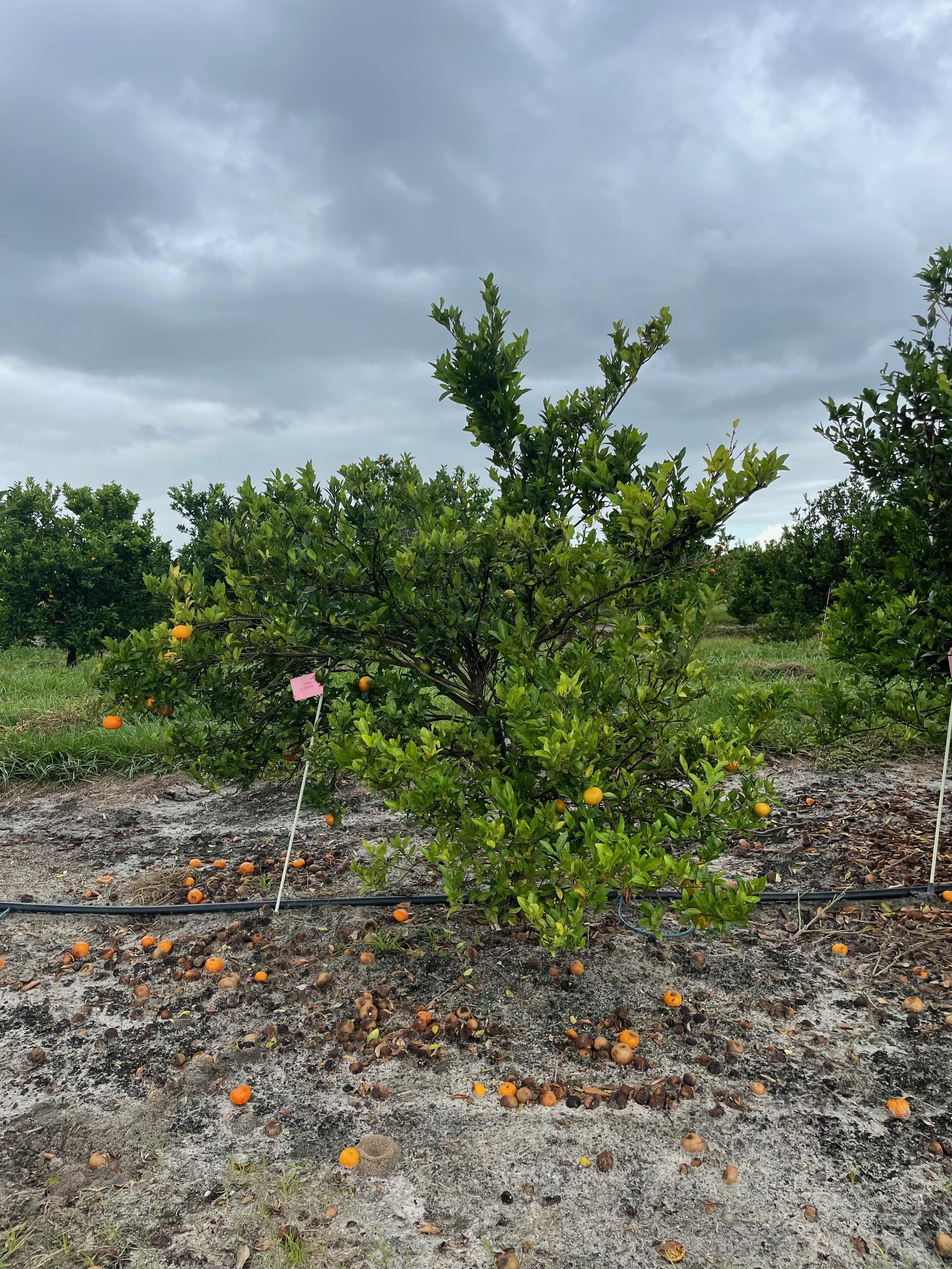fruit_on_ground: (581, 785, 605, 807), (679, 876, 702, 898), (690, 909, 713, 931), (171, 623, 193, 643), (160, 649, 183, 668), (943, 636, 952, 681), (102, 714, 124, 732), (752, 801, 772, 818), (156, 700, 174, 718), (144, 695, 162, 713), (550, 797, 568, 815), (723, 757, 742, 774), (357, 675, 374, 694), (324, 812, 343, 828), (283, 748, 298, 763), (417, 661, 432, 675), (291, 741, 305, 754), (503, 587, 516, 599), (709, 568, 715, 574), (48, 593, 55, 598), (723, 547, 728, 552), (91, 556, 96, 561)
fruit_on_tree: (659, 1238, 687, 1264), (337, 1145, 361, 1172), (885, 1096, 912, 1119), (680, 1131, 705, 1155), (228, 1083, 252, 1106), (609, 1044, 634, 1066), (932, 1229, 952, 1256), (494, 1250, 522, 1269), (721, 1163, 742, 1187), (901, 994, 924, 1014), (87, 1150, 109, 1169), (618, 1028, 640, 1047), (662, 988, 684, 1007), (651, 1090, 672, 1109), (514, 1086, 535, 1105), (69, 939, 90, 958), (725, 1037, 745, 1056), (688, 950, 708, 968), (538, 1089, 558, 1107), (204, 955, 224, 973), (218, 973, 240, 989), (371, 1082, 390, 1100), (499, 1079, 518, 1097), (186, 888, 206, 905), (634, 1055, 652, 1073), (414, 1011, 432, 1029), (830, 940, 849, 957), (391, 906, 411, 922), (632, 1086, 649, 1104), (171, 1049, 188, 1067), (462, 943, 480, 960), (359, 1003, 377, 1020), (567, 958, 585, 975), (748, 1080, 767, 1096), (315, 971, 334, 987), (351, 996, 368, 1013), (592, 1035, 609, 1052), (443, 1011, 461, 1027), (133, 982, 151, 998), (500, 1093, 518, 1109), (184, 965, 201, 981), (471, 1080, 487, 1097), (156, 937, 173, 953), (98, 946, 116, 961), (58, 951, 74, 967), (337, 1017, 354, 1032), (359, 949, 376, 964), (238, 860, 255, 875), (565, 1094, 583, 1108), (454, 1003, 472, 1017), (243, 1029, 262, 1042), (679, 1085, 695, 1100), (682, 1069, 698, 1084), (262, 1021, 277, 1036), (464, 1017, 480, 1031), (140, 933, 156, 947), (343, 1039, 358, 1053), (697, 1050, 712, 1064), (362, 932, 377, 946), (563, 1026, 578, 1040), (253, 968, 268, 982), (362, 917, 378, 930), (150, 947, 166, 960), (351, 1030, 365, 1044), (357, 989, 372, 1002), (327, 1047, 342, 1060), (180, 874, 195, 887), (667, 1072, 681, 1085), (241, 934, 255, 947), (939, 889, 952, 903), (213, 856, 227, 869), (189, 856, 203, 869), (226, 920, 241, 932), (290, 856, 305, 868), (215, 929, 228, 942), (752, 838, 765, 850), (323, 852, 336, 864), (737, 837, 750, 849), (341, 945, 354, 957), (348, 1061, 361, 1073), (236, 882, 248, 894), (0, 952, 7, 972), (334, 865, 346, 876)
